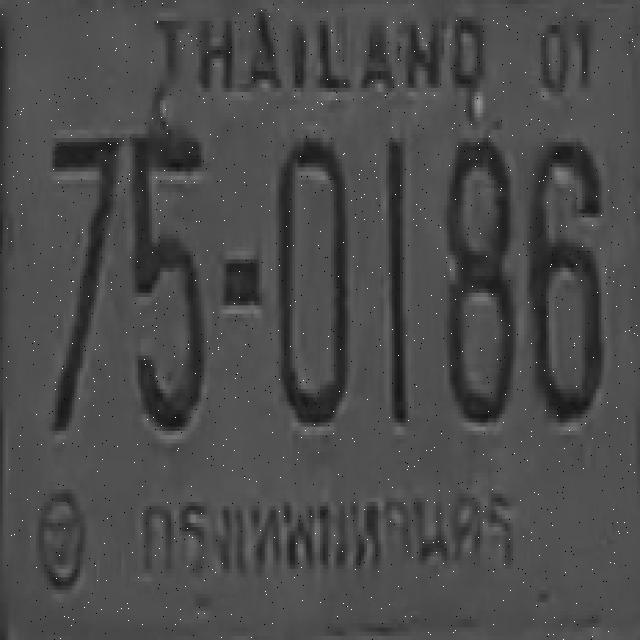0: (274, 134, 348, 422)
1: (385, 136, 407, 424)
5: (130, 121, 204, 431)
6: (527, 138, 601, 422)
7: (48, 134, 120, 431), (50, 134, 119, 326)
8: (442, 134, 514, 422)
Bangkok: (134, 470, 532, 606)
